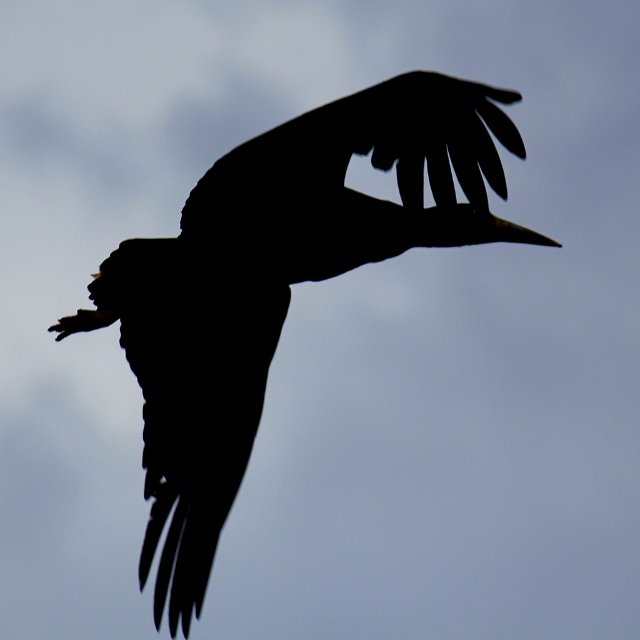Raven: (48, 71, 559, 611)
